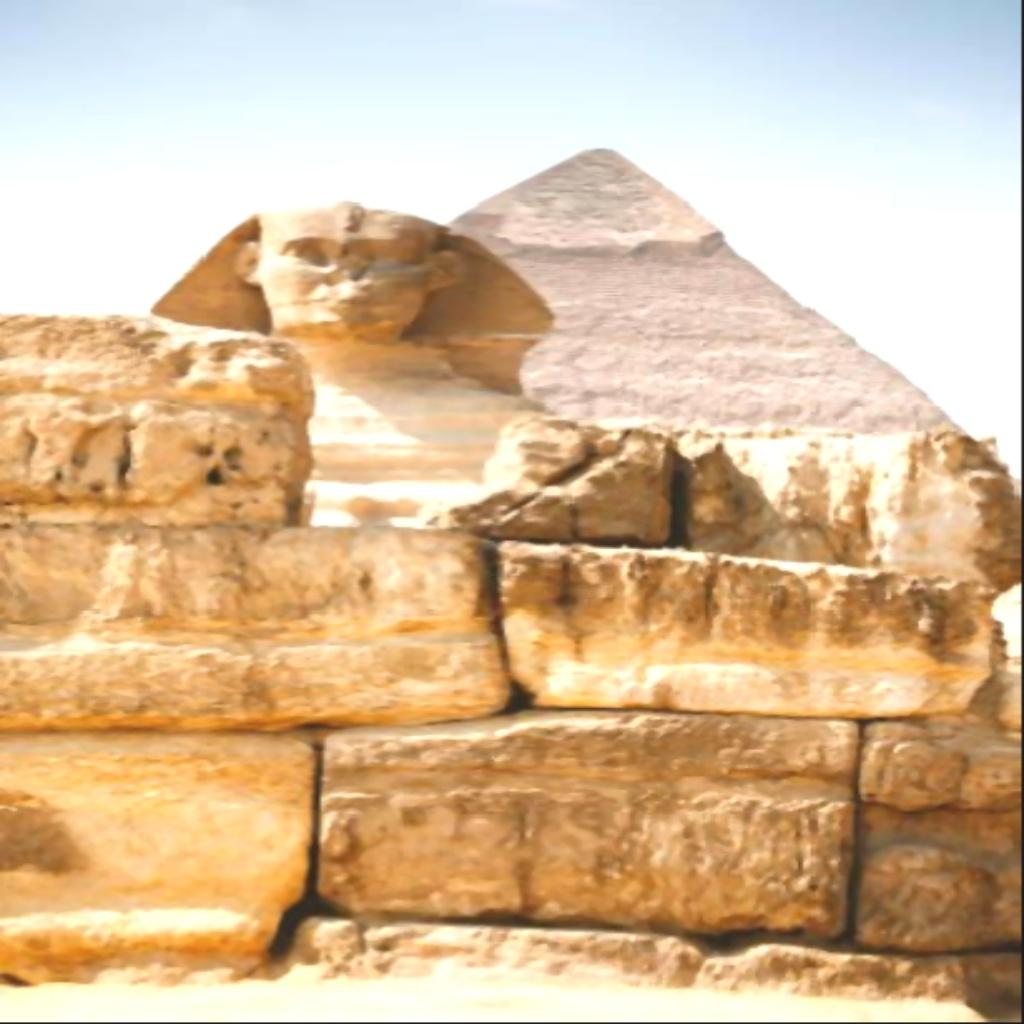Sphinx: (146, 199, 558, 525)
